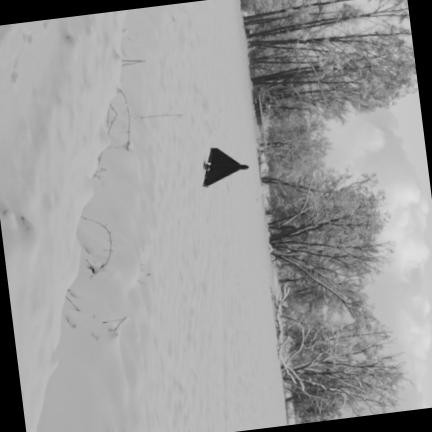Shahed: (202, 148, 247, 186)
